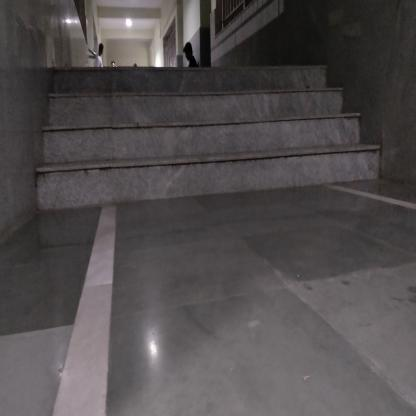stairs: (55, 67, 326, 205)
